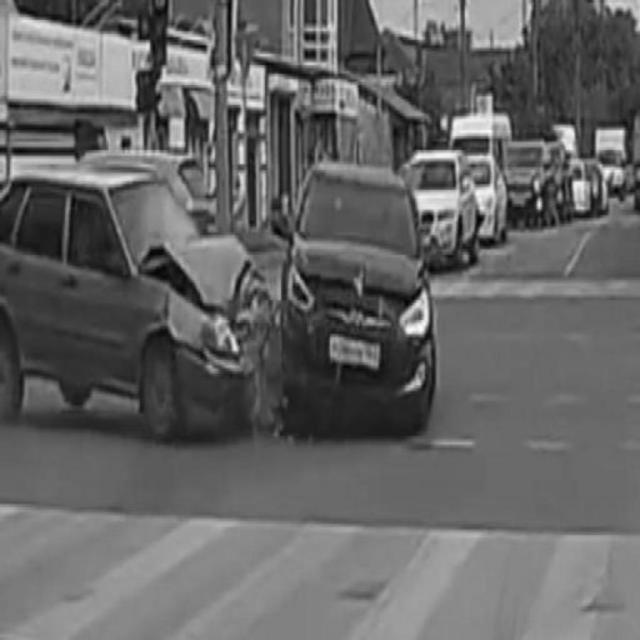accident: (0, 161, 438, 435)
vehicle: (402, 147, 484, 265)
